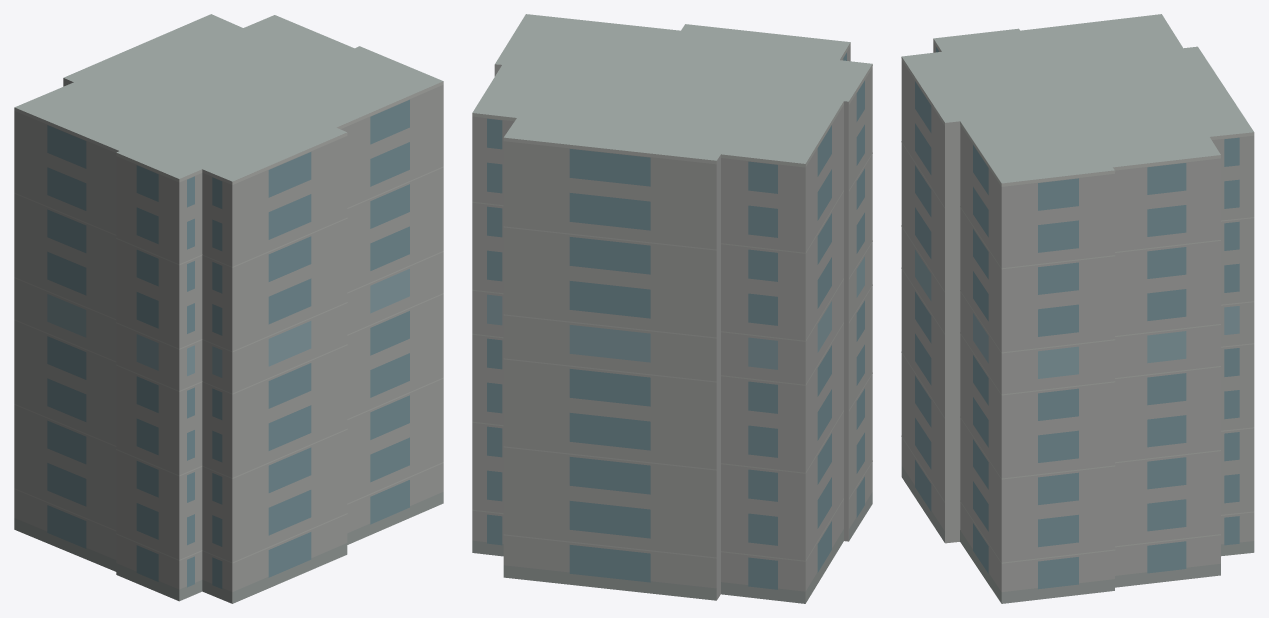
The model's file is survey-upis-32945033.glb.
3 renders of one model, left to right at view 1: azimuth 30°, elevation 25°; view 2: azimuth 150°, elevation 25°; view 3: azimuth 270°, elevation 25°, orthographic. The views are drawn at different scales.
Visible parts, largest first — view 1: survey-upis-32945033.tmp; view 2: survey-upis-32945033.tmp; view 3: survey-upis-32945033.tmp.
Boxes of the visible parts, left/top/right/bottom form: survey-upis-32945033.tmp: left=14, top=14, right=443, bottom=603; survey-upis-32945033.tmp: left=472, top=14, right=872, bottom=603; survey-upis-32945033.tmp: left=901, top=14, right=1254, bottom=603.
Bounding box in the file's own units: 25.87 × 29.9 × 22.76.
